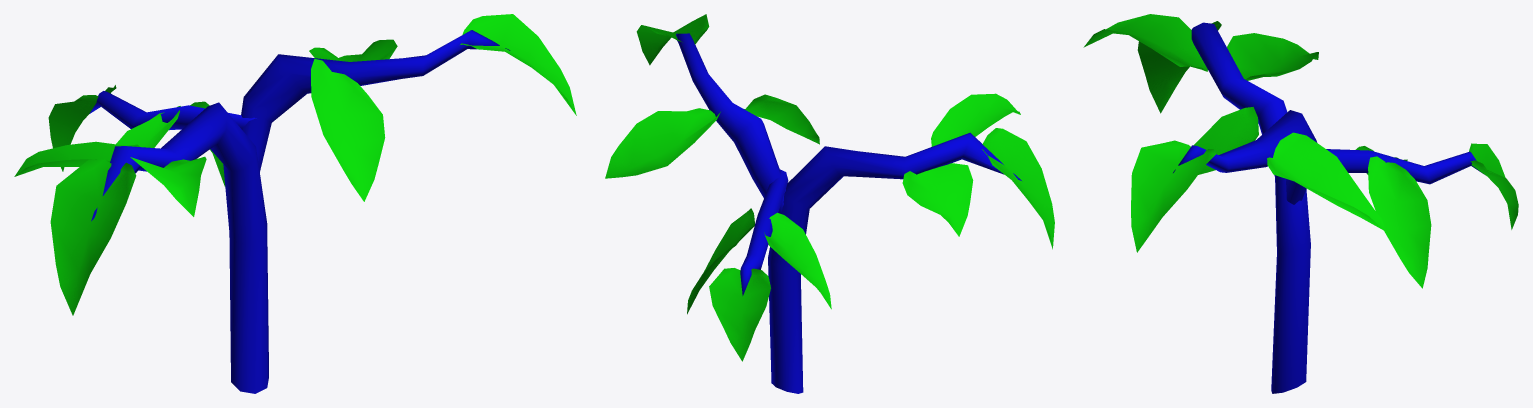
File: Pepper_Dead.fbx
The picture shows the model from 3 angles, left to right: view 1: azimuth 30°, elevation 25°; view 2: azimuth 150°, elevation 25°; view 3: azimuth 270°, elevation 25°; orthographic projection. The views are drawn at different scales.
Visible parts, largest first — view 1: BSTC_Pepper_Dead; view 2: BSTC_Pepper_Dead; view 3: BSTC_Pepper_Dead.
Boxes of the visible parts, bbox=[...] form: BSTC_Pepper_Dead: bbox=[14, 14, 576, 393]; BSTC_Pepper_Dead: bbox=[605, 14, 1054, 393]; BSTC_Pepper_Dead: bbox=[1083, 14, 1518, 393].
Bounding box in the file's own units: 59.17 × 40.01 × 48.39.
